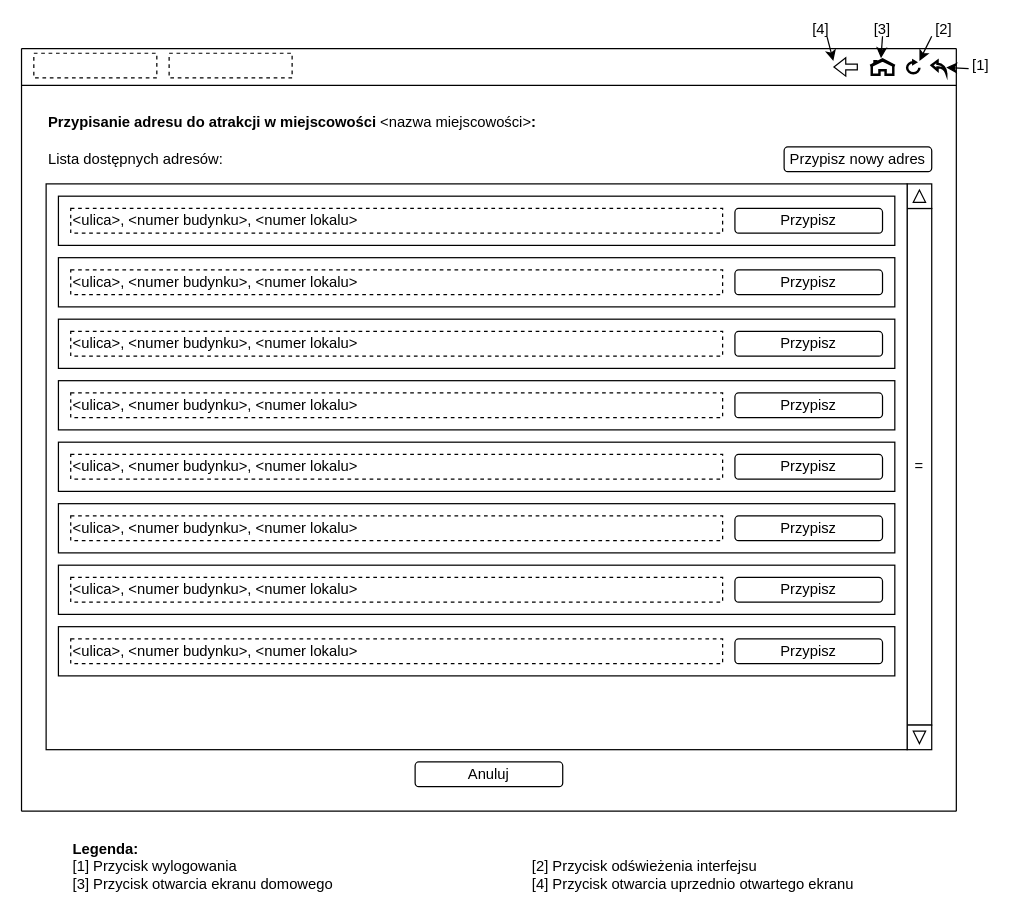
Image size: 1015x924. Some labels were removed from this diagram. Here are the shapes that lost their labels. From the top down, the centre of each, then its label:
the point at 95,65: login
the point at 230,65: rola
